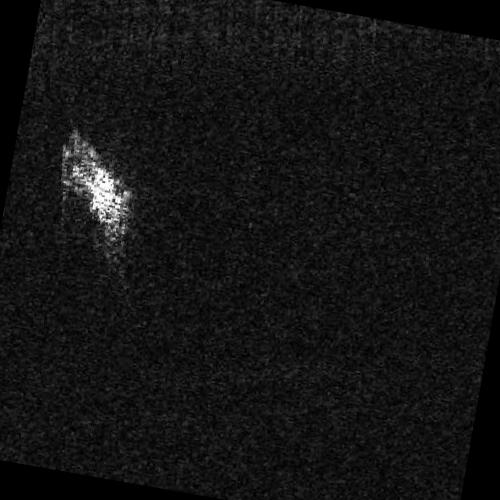ship: (58, 132, 122, 225)
